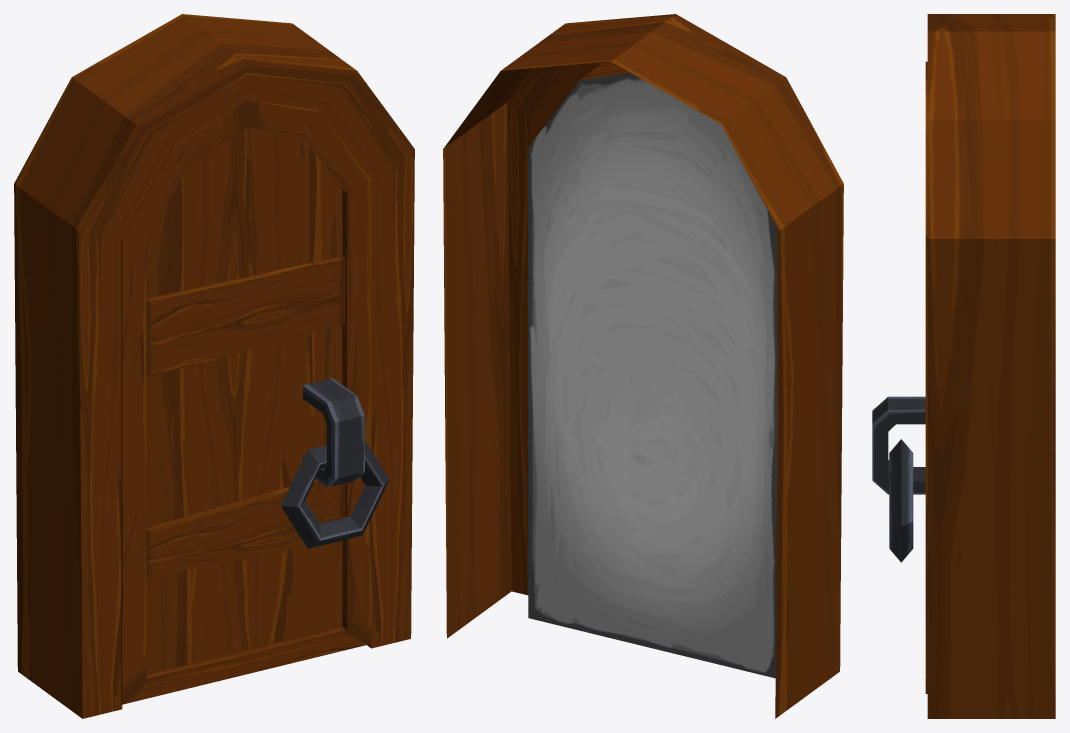
Rendered from MOD_Door_interior.fbx.
3 renders of one model, left to right at view 1: azimuth 30°, elevation 25°; view 2: azimuth 150°, elevation 25°; view 3: azimuth 270°, elevation 25°, orthographic.
Parts seen in each view (by area): view 1: MOD_Door_part_interior, MOD_Door_interior; view 2: MOD_Door_interior; view 3: MOD_Door_interior, MOD_Door_part_interior.
Part boxes in pixels (<box>): MOD_Door_part_interior: <box>121,100,389,704</box>; MOD_Door_interior: <box>14,14,414,718</box>; MOD_Door_interior: <box>443,14,843,718</box>; MOD_Door_interior: <box>927,14,1055,718</box>; MOD_Door_part_interior: <box>872,61,927,693</box>.
Size of the model in its own units: 138 by 242 by 65.99.
